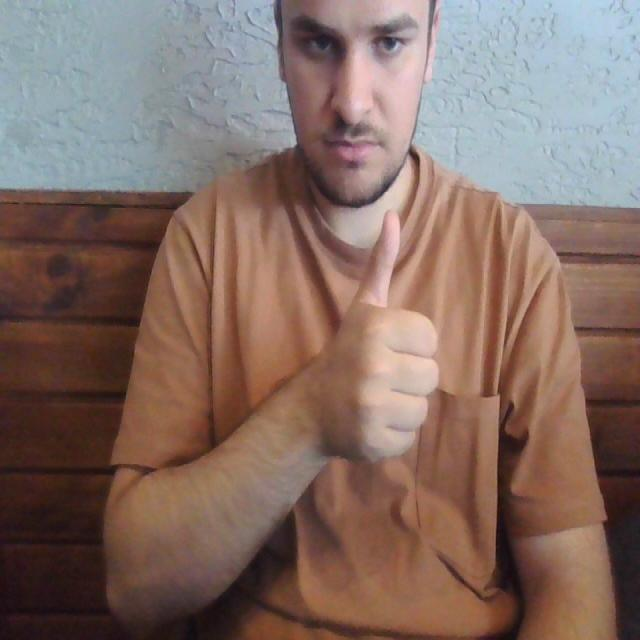Tamam: (312, 199, 443, 471)
